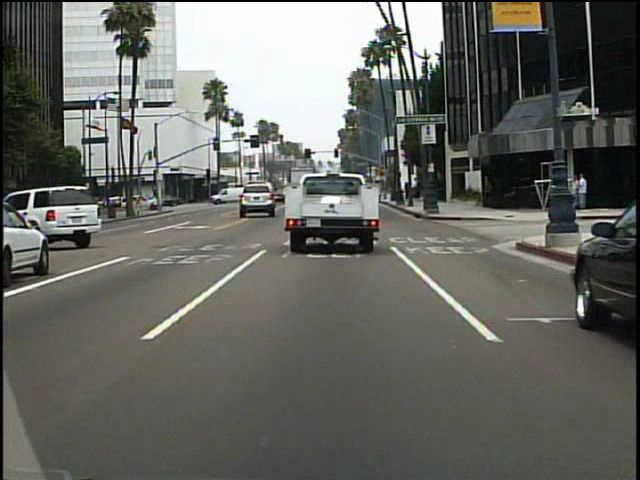person: (575, 169, 591, 212), (568, 173, 582, 216), (150, 189, 163, 215)
